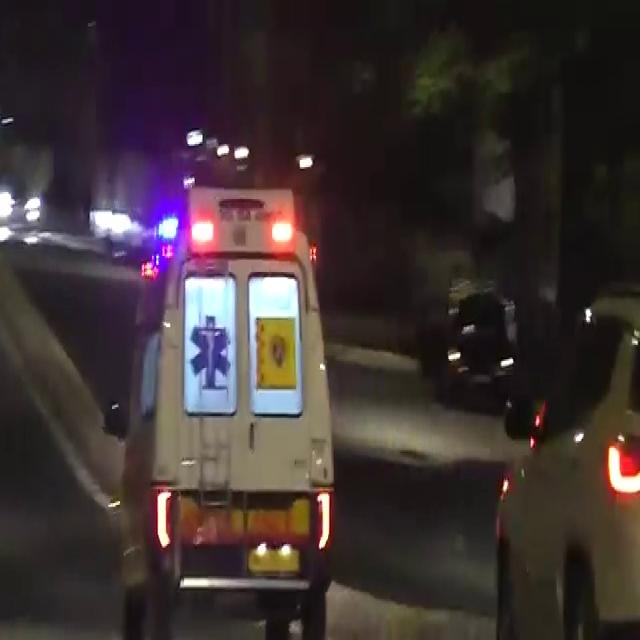ambulance: (108, 147, 336, 639)
